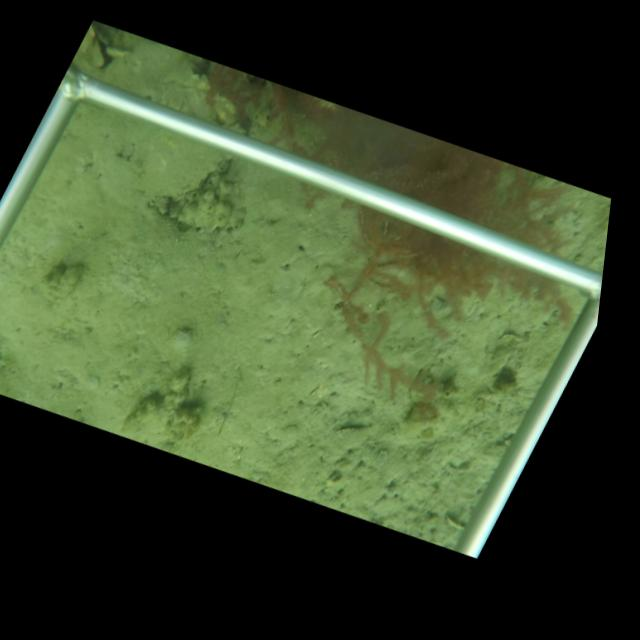Oyster-Closed: (138, 127, 228, 199)
